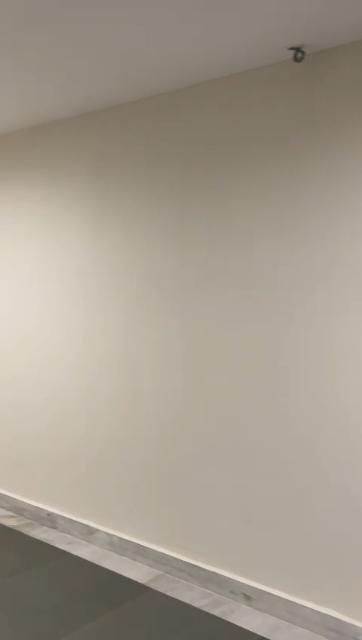floor: (0, 506, 341, 640)
wall: (0, 49, 362, 624)
